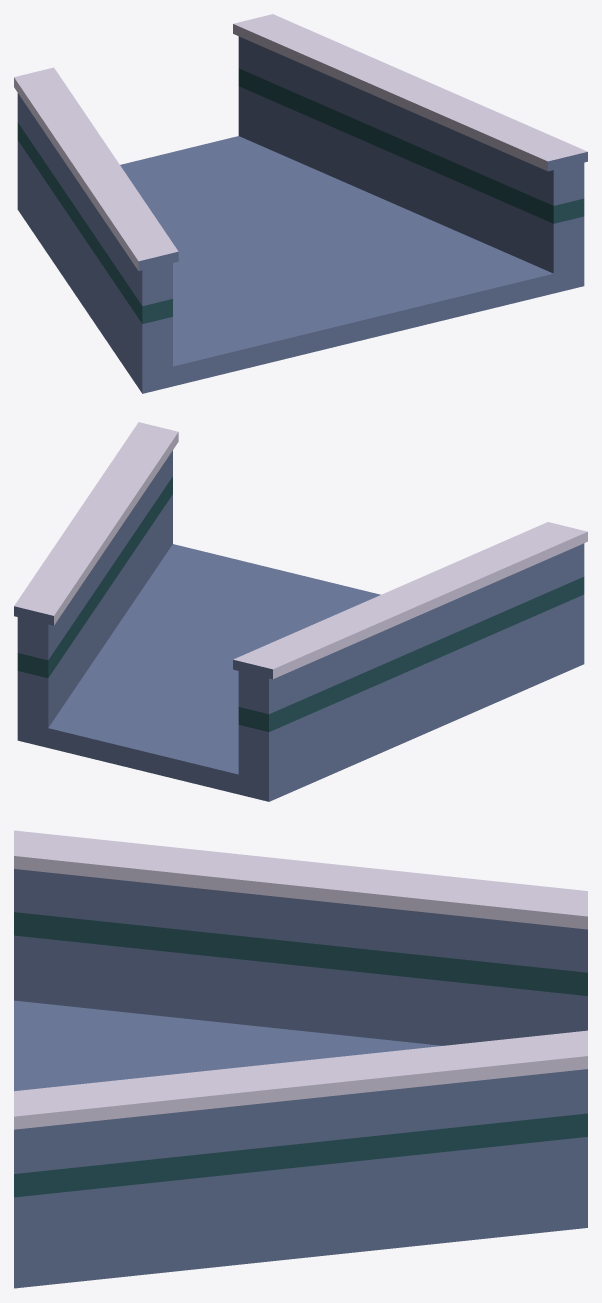
File: W1_Canal_Taper.fbx
3 renders of one model, top to bottom at view 1: azimuth 30°, elevation 25°; view 2: azimuth 150°, elevation 25°; view 3: azimuth 270°, elevation 25°, orthographic. The views are drawn at different scales.
Parts seen in each view (by area): view 1: W1_Canal_Taper; view 2: W1_Canal_Taper; view 3: W1_Canal_Taper.
Boxes of the visible parts, x1=… form: W1_Canal_Taper: x1=14, y1=14, x2=587, y2=393; W1_Canal_Taper: x1=14, y1=422, x2=587, y2=801; W1_Canal_Taper: x1=14, y1=830, x2=587, y2=1288.
Size of the model in its own units: 11.8 by 3.35 by 10.
